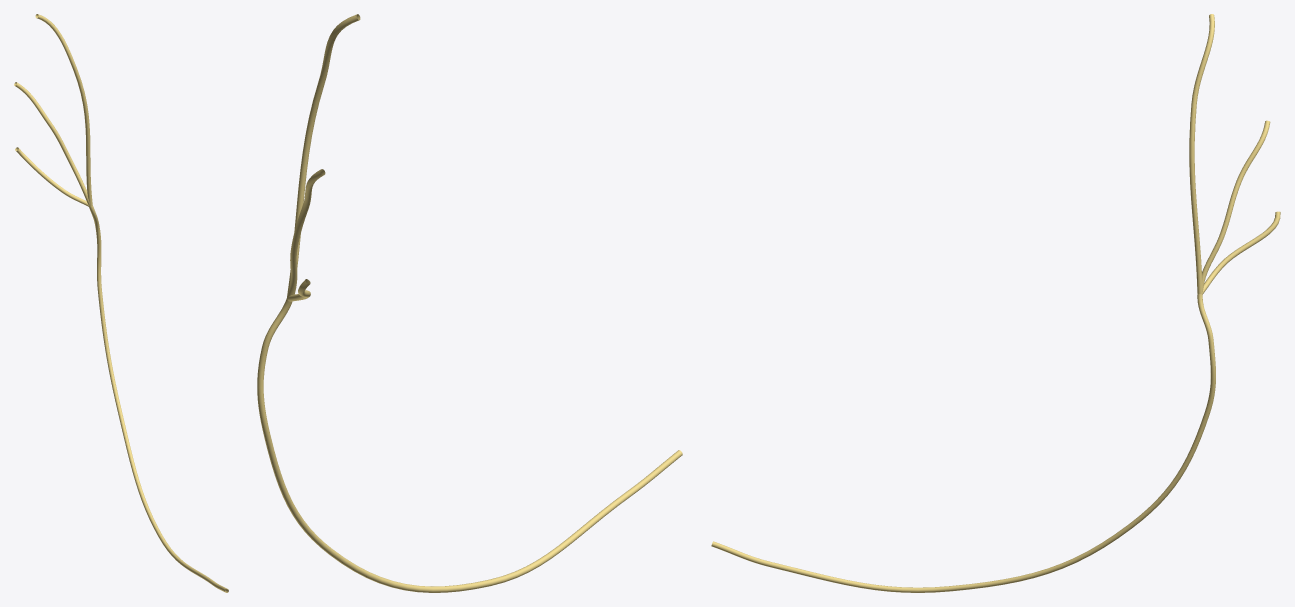
3 renders of one model, left to right at view 1: azimuth 30°, elevation 25°; view 2: azimuth 150°, elevation 25°; view 3: azimuth 270°, elevation 25°, orthographic. The views are drawn at different scales.
Visible parts, largest first — view 1: ZA_145f112d82883d6b; view 2: ZA_145f112d82883d6b; view 3: ZA_145f112d82883d6b.
Boxes of the visible parts, x1,y1,x2,y2 form: ZA_145f112d82883d6b: (14, 14, 228, 592); ZA_145f112d82883d6b: (257, 14, 682, 592); ZA_145f112d82883d6b: (711, 14, 1280, 592).
Size of the model in its own units: 0.0203 by 0.1162 by 0.105.
